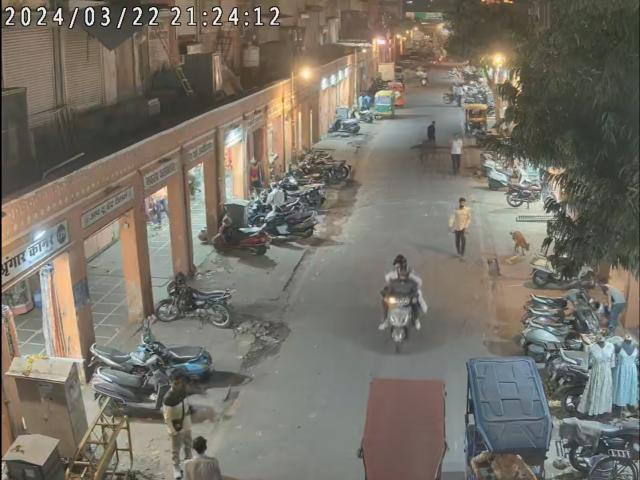auto: (468, 350, 562, 477)
helmet: (393, 254, 410, 267)
motorbike: (162, 274, 236, 328), (504, 180, 554, 215)
motorbike-rider: (269, 7, 283, 28)
person: (161, 368, 195, 479), (176, 436, 228, 478), (450, 194, 473, 258)
scooty: (134, 320, 218, 381), (92, 362, 176, 422), (524, 282, 592, 354), (215, 210, 268, 261), (95, 336, 151, 377), (266, 204, 318, 243)
scooty-rider: (382, 255, 428, 350)
